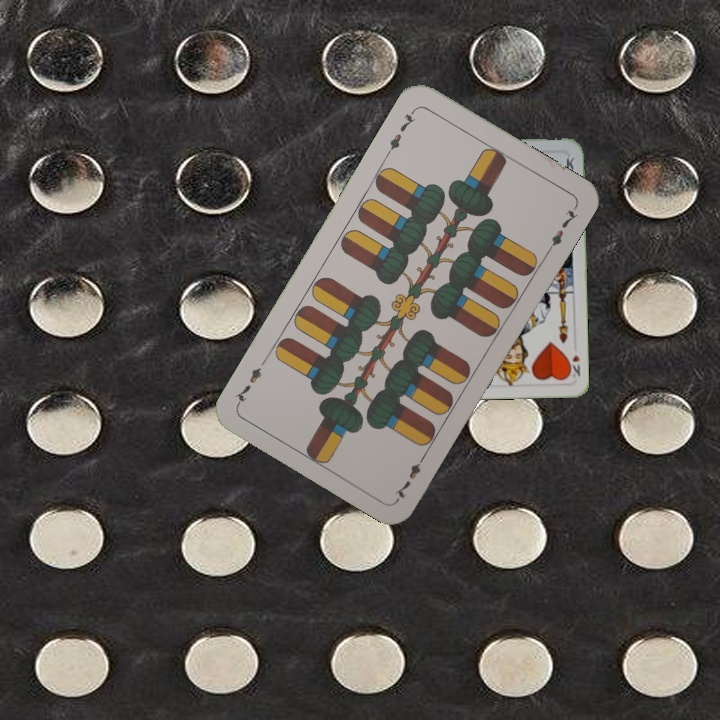E7: (390, 449, 429, 503), (382, 105, 419, 158)
HK: (564, 350, 583, 381)
